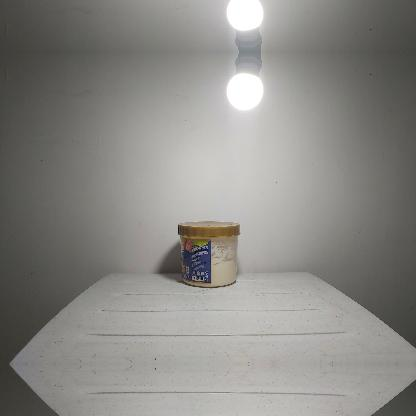Lady-s-Choice: (178, 221, 240, 288)
